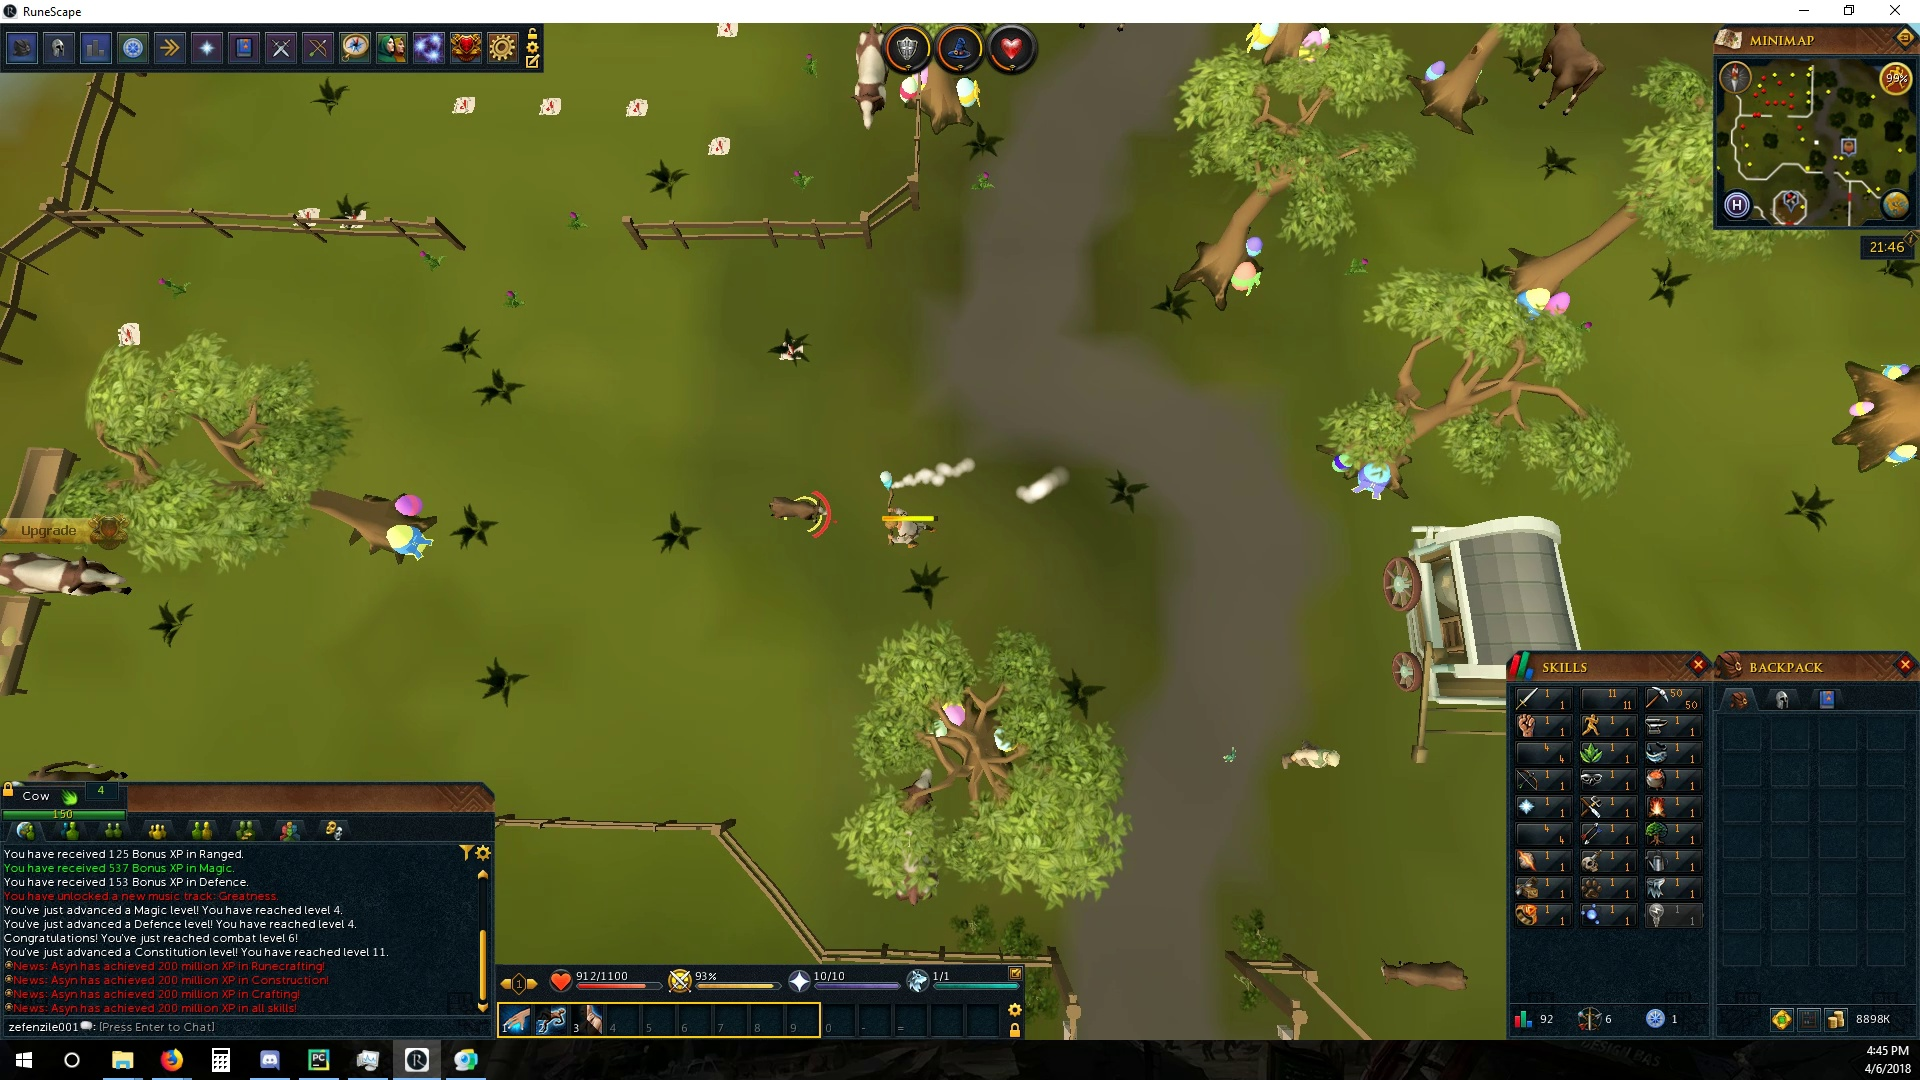calf: (1375, 953, 1474, 997), (765, 495, 833, 527)
cow: (886, 764, 945, 909), (1524, 26, 1607, 121), (1, 549, 135, 603), (851, 22, 895, 133)
cow_drop: (713, 22, 742, 47), (448, 92, 479, 116), (117, 319, 144, 345), (622, 96, 654, 117), (705, 136, 733, 158), (289, 204, 322, 223), (534, 98, 560, 119)
